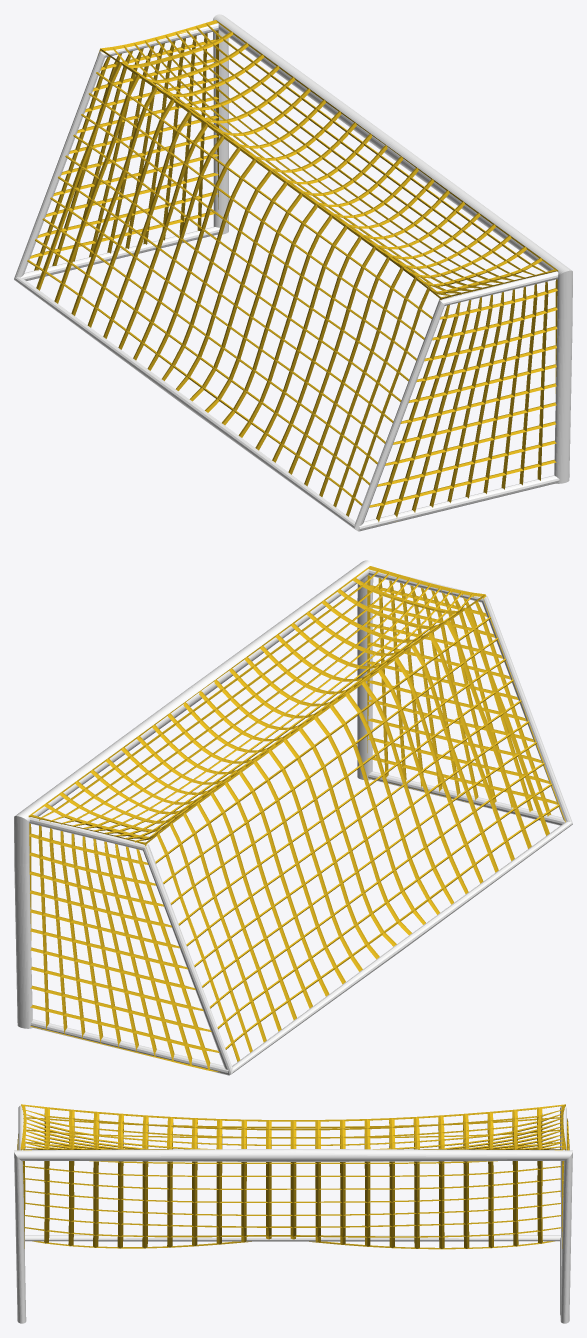
Rendered from goal post.fbx.
The picture shows the model from 3 angles, top to bottom: view 1: azimuth 30°, elevation 25°; view 2: azimuth 150°, elevation 25°; view 3: azimuth 270°, elevation 25°; orthographic projection. The views are drawn at different scales.
Parts seen in each view (by area): view 1: Cube, Plane, Cube.001; view 2: Cube, Plane, Cube.001; view 3: Cube, Cube.001, Plane.
Boxes of the visible parts, left/top/right/bottom form: Cube: left=27, top=20, right=558, bottom=521; Plane: left=14, top=23, right=559, bottom=531; Cube.001: left=212, top=14, right=572, bottom=483; Cube: left=28, top=566, right=565, bottom=1072; Plane: left=29, top=569, right=572, bottom=1075; Cube.001: left=14, top=560, right=373, bottom=1028; Cube: left=17, top=1104, right=569, bottom=1249; Cube.001: left=14, top=1149, right=572, bottom=1323; Plane: left=18, top=1105, right=566, bottom=1317.
Bounding box in the file's own units: 309 × 300 × 865.
